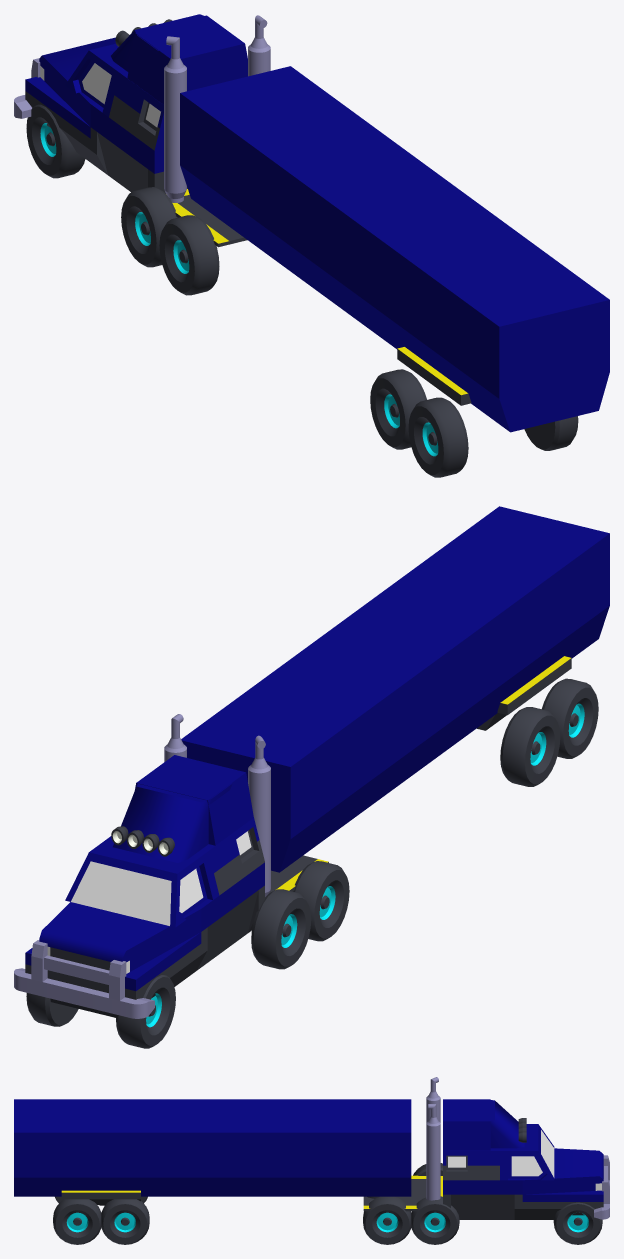
The model's file is obstacle_semi.glb.
3 renders of one model, top to bottom at view 1: azimuth 30°, elevation 25°; view 2: azimuth 150°, elevation 25°; view 3: azimuth 270°, elevation 25°, orthographic. The views are drawn at different scales.
Visible parts, largest first — view 1: mergedBlocks(Clone); view 2: mergedBlocks(Clone); view 3: mergedBlocks(Clone).
Part boxes in pixels (bbox=[...]): mergedBlocks(Clone): bbox=[14, 14, 609, 477]; mergedBlocks(Clone): bbox=[14, 506, 609, 1048]; mergedBlocks(Clone): bbox=[14, 1077, 609, 1244].
Size of the model in its own units: 1.3 by 1.91 by 7.5.
